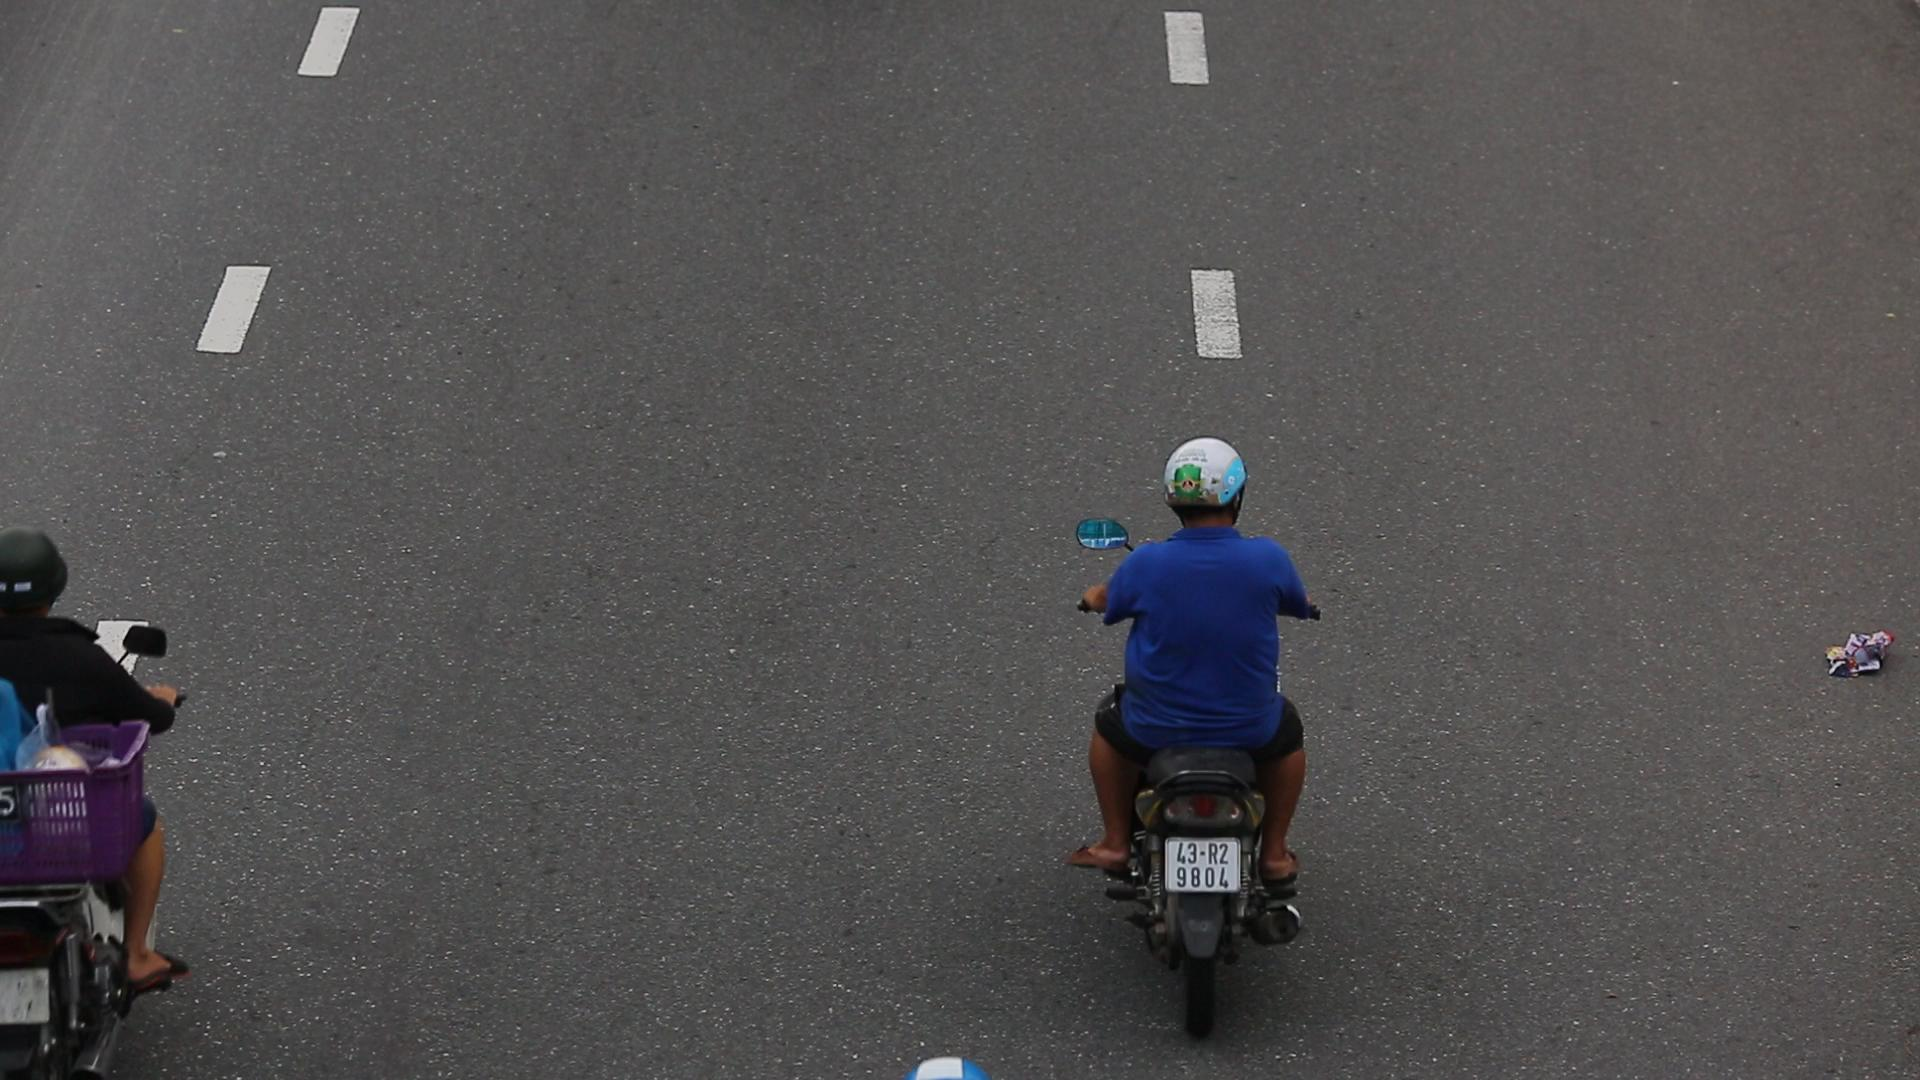motobike: (1033, 434, 1323, 1056)
